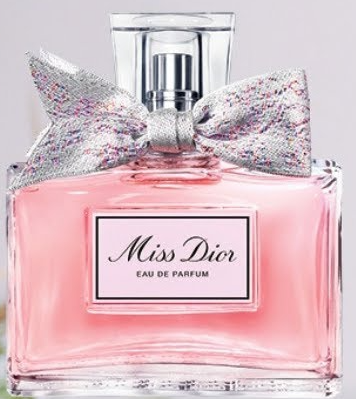dior_miss_dior: (2, 10, 343, 398)
